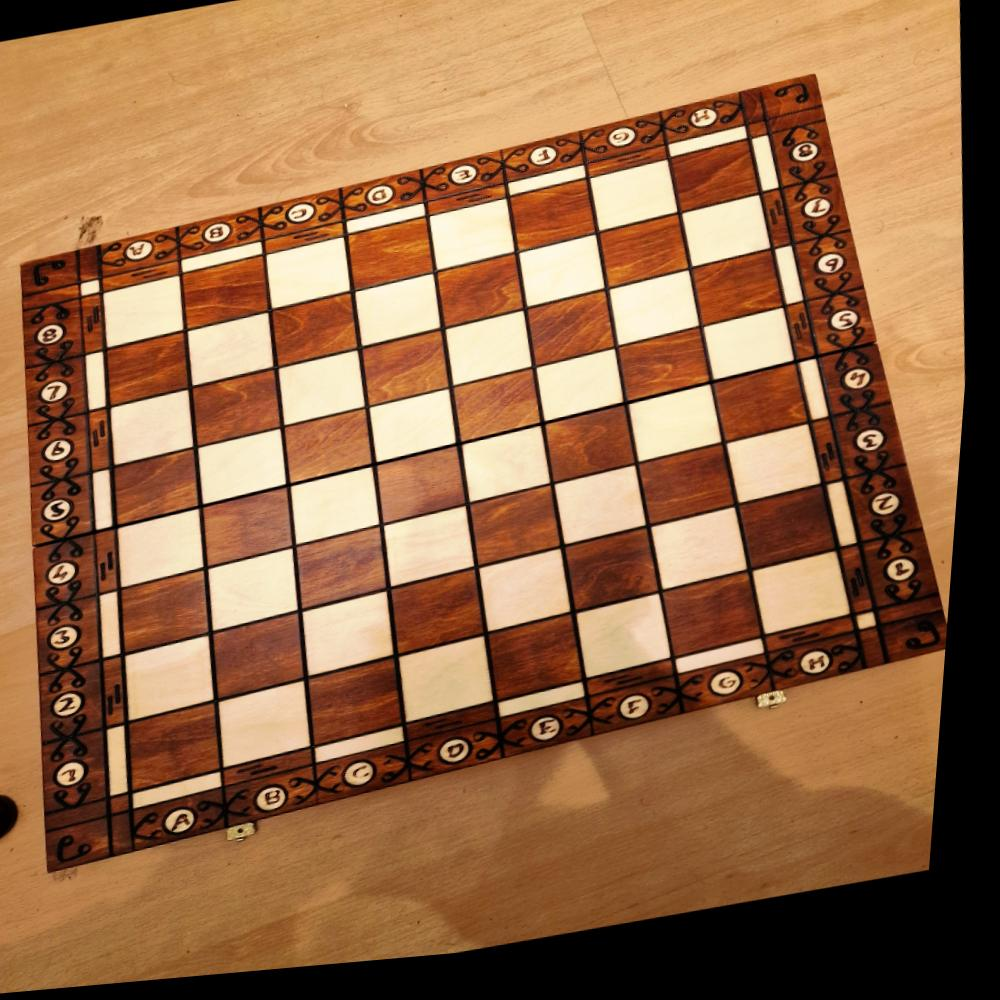A: (145, 789, 242, 854), (105, 232, 184, 282)
B: (239, 770, 335, 829), (178, 212, 268, 263)
C: (330, 750, 429, 812), (265, 194, 350, 246)
D: (422, 729, 521, 790), (344, 176, 432, 225)
E: (516, 710, 612, 768), (424, 163, 511, 208)
F: (600, 691, 701, 749), (507, 141, 589, 192)
G: (687, 668, 793, 727), (583, 123, 670, 173)
H: (785, 643, 880, 707), (664, 104, 751, 157)
chessboard-corners: (24, 88, 959, 875)
chessfield: (570, 537, 674, 623), (309, 596, 409, 685), (223, 615, 321, 705), (674, 585, 776, 670), (133, 635, 227, 727), (143, 703, 234, 798), (409, 645, 508, 732), (761, 568, 864, 651), (661, 519, 761, 604), (401, 578, 501, 663), (749, 500, 850, 584), (488, 559, 587, 644), (232, 685, 326, 774), (215, 554, 312, 640), (498, 623, 595, 708), (645, 457, 746, 537), (322, 665, 415, 751), (587, 607, 684, 689), (634, 395, 732, 476), (719, 375, 818, 455), (129, 573, 221, 659), (563, 474, 660, 555), (478, 497, 573, 579), (392, 513, 486, 595), (734, 440, 831, 518), (382, 454, 478, 532), (464, 435, 560, 513), (538, 360, 634, 438), (204, 430, 298, 509), (614, 281, 709, 358), (201, 373, 292, 453), (290, 414, 384, 491), (696, 263, 790, 339), (307, 534, 396, 614), (127, 510, 215, 590), (119, 451, 208, 530), (553, 416, 644, 493), (448, 319, 540, 395), (282, 357, 375, 432), (375, 396, 469, 470), (213, 492, 302, 570), (300, 472, 390, 549), (459, 377, 551, 452), (625, 342, 721, 413), (604, 225, 696, 299), (359, 280, 449, 355), (441, 263, 531, 338), (193, 316, 282, 391), (112, 334, 199, 410), (686, 210, 778, 281), (275, 299, 364, 372), (513, 189, 602, 262), (673, 153, 763, 225), (592, 172, 683, 243), (116, 394, 201, 470), (535, 299, 620, 375), (709, 324, 801, 394), (523, 247, 612, 319), (272, 243, 359, 316), (434, 207, 522, 279), (188, 261, 277, 332), (369, 338, 454, 412), (352, 226, 438, 296), (106, 279, 186, 350)
innerChessboard: (107, 152, 863, 796)
